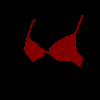reggiseno: (24, 15, 83, 67)
